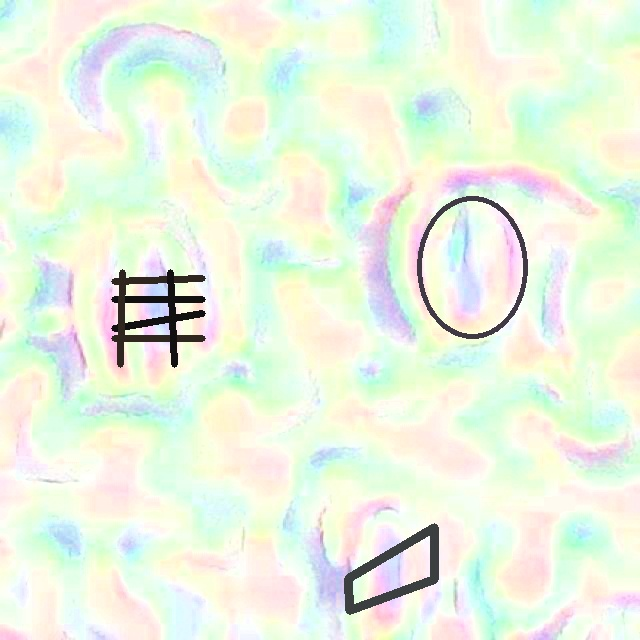open: (417, 195, 527, 338), (112, 270, 205, 366), (344, 523, 438, 614)
